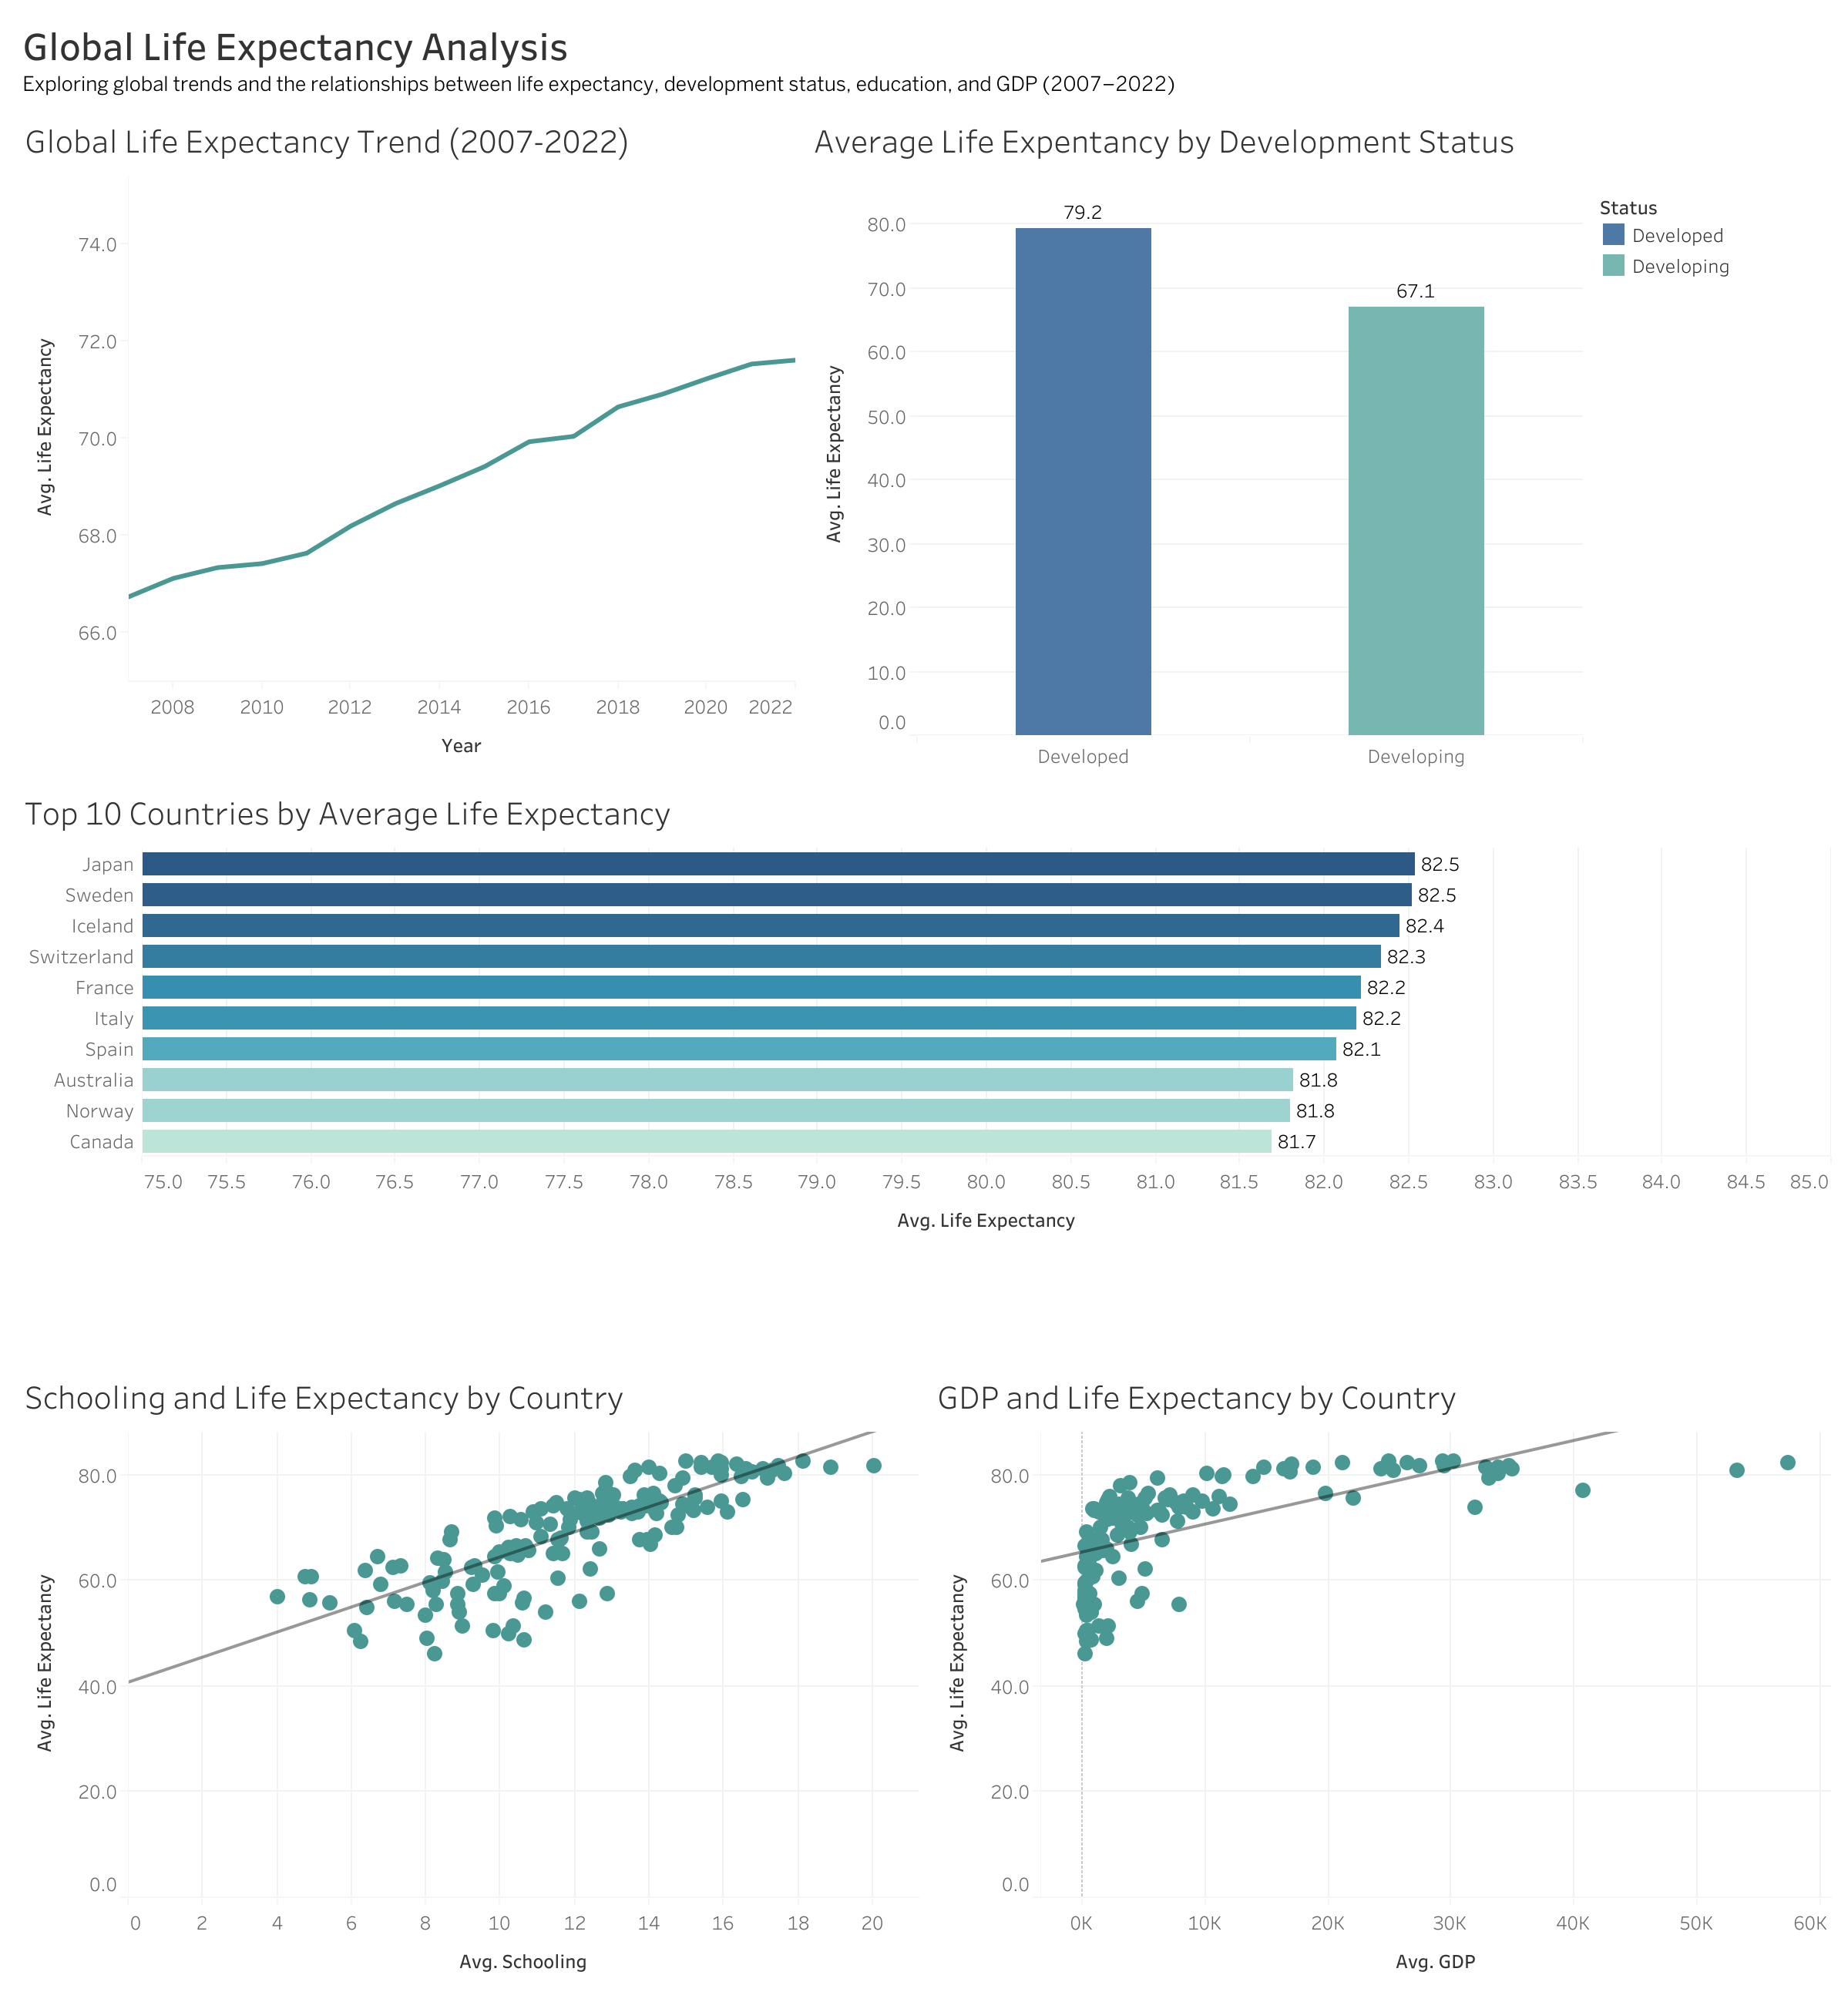

The dashboard page shown, as its layout file describes it:
{"tool":"tableau","page":{"name":"Global Life Expectancy Analysis","canvas":[1200,1300],"ordinal":0},"visuals":[{"type":"title","box":[8,8,1024,58]},{"type":"worksheet","title":"Global Life Expectancy Trend (2007-2022)","mark":"Line","rows":["life_expectancy"],"cols":["Year"],"box":[8,66,512,437]},{"type":"worksheet","title":"Average Life Expentancy by Development Status","mark":"Bar","rows":["life_expectancy"],"cols":["Status"],"box":[520,66,512,437]},{"type":"legend","title":"Average Life Expentancy by Development Status","param":"[federated.0z9gfml0umbigu1aplwa70vpxtho].[none:Status:nk]","box":[1037,123,140,58]},{"type":"worksheet","title":"Top 10 Countries by Average Life Expectancy","mark":"Bar","rows":["Country"],"cols":["life_expectancy"],"box":[8,503,1184,379]},{"type":"worksheet","title":"Schooling and Life Expectancy by Country","mark":"Circle","rows":["life_expectancy"],"cols":["schooling"],"box":[8,882,592,410]},{"type":"worksheet","title":"GDP and Life Expectancy by Country","mark":"Circle","rows":["life_expectancy"],"cols":["GDP"],"box":[600,882,592,410]}]}

Visuals, with their boxes in screenshot pixels (x1, y1, x2, y2), scaled from the page's 1200x1300 canvas onto the 1848x2002 screenshot:
title: crop(12, 12, 1589, 102)
"Global Life Expectancy Trend (2007-2022)" worksheet (Line marks): crop(12, 102, 801, 774)
"Average Life Expentancy by Development Status" worksheet (Bar marks): crop(801, 102, 1589, 774)
"Average Life Expentancy by Development Status" legend: crop(1597, 190, 1813, 279)
"Top 10 Countries by Average Life Expectancy" worksheet (Bar marks): crop(12, 774, 1836, 1359)
"Schooling and Life Expectancy by Country" worksheet (Circle marks): crop(12, 1359, 924, 1990)
"GDP and Life Expectancy by Country" worksheet (Circle marks): crop(924, 1359, 1836, 1990)
